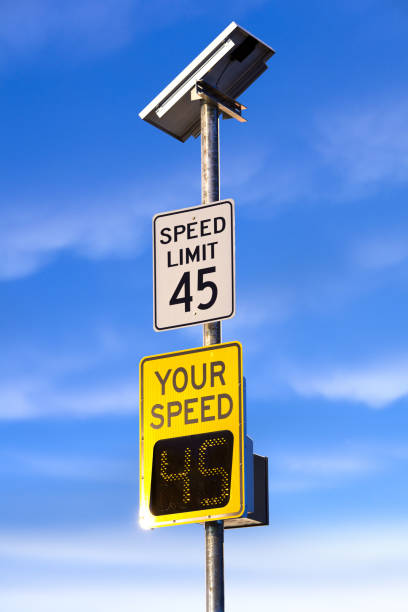SpeedLimitSign: (151, 198, 235, 334)
